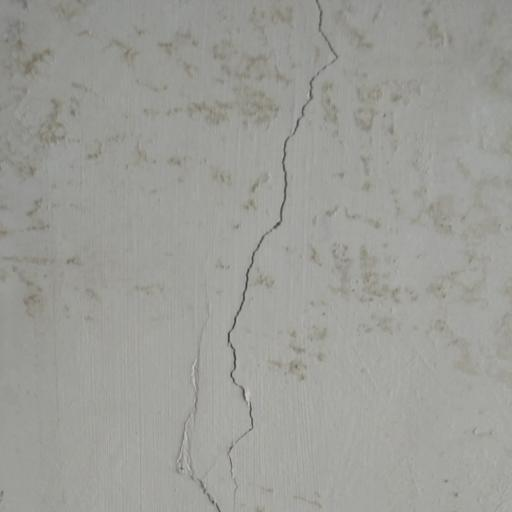minor_crack: (178, 0, 353, 512)
